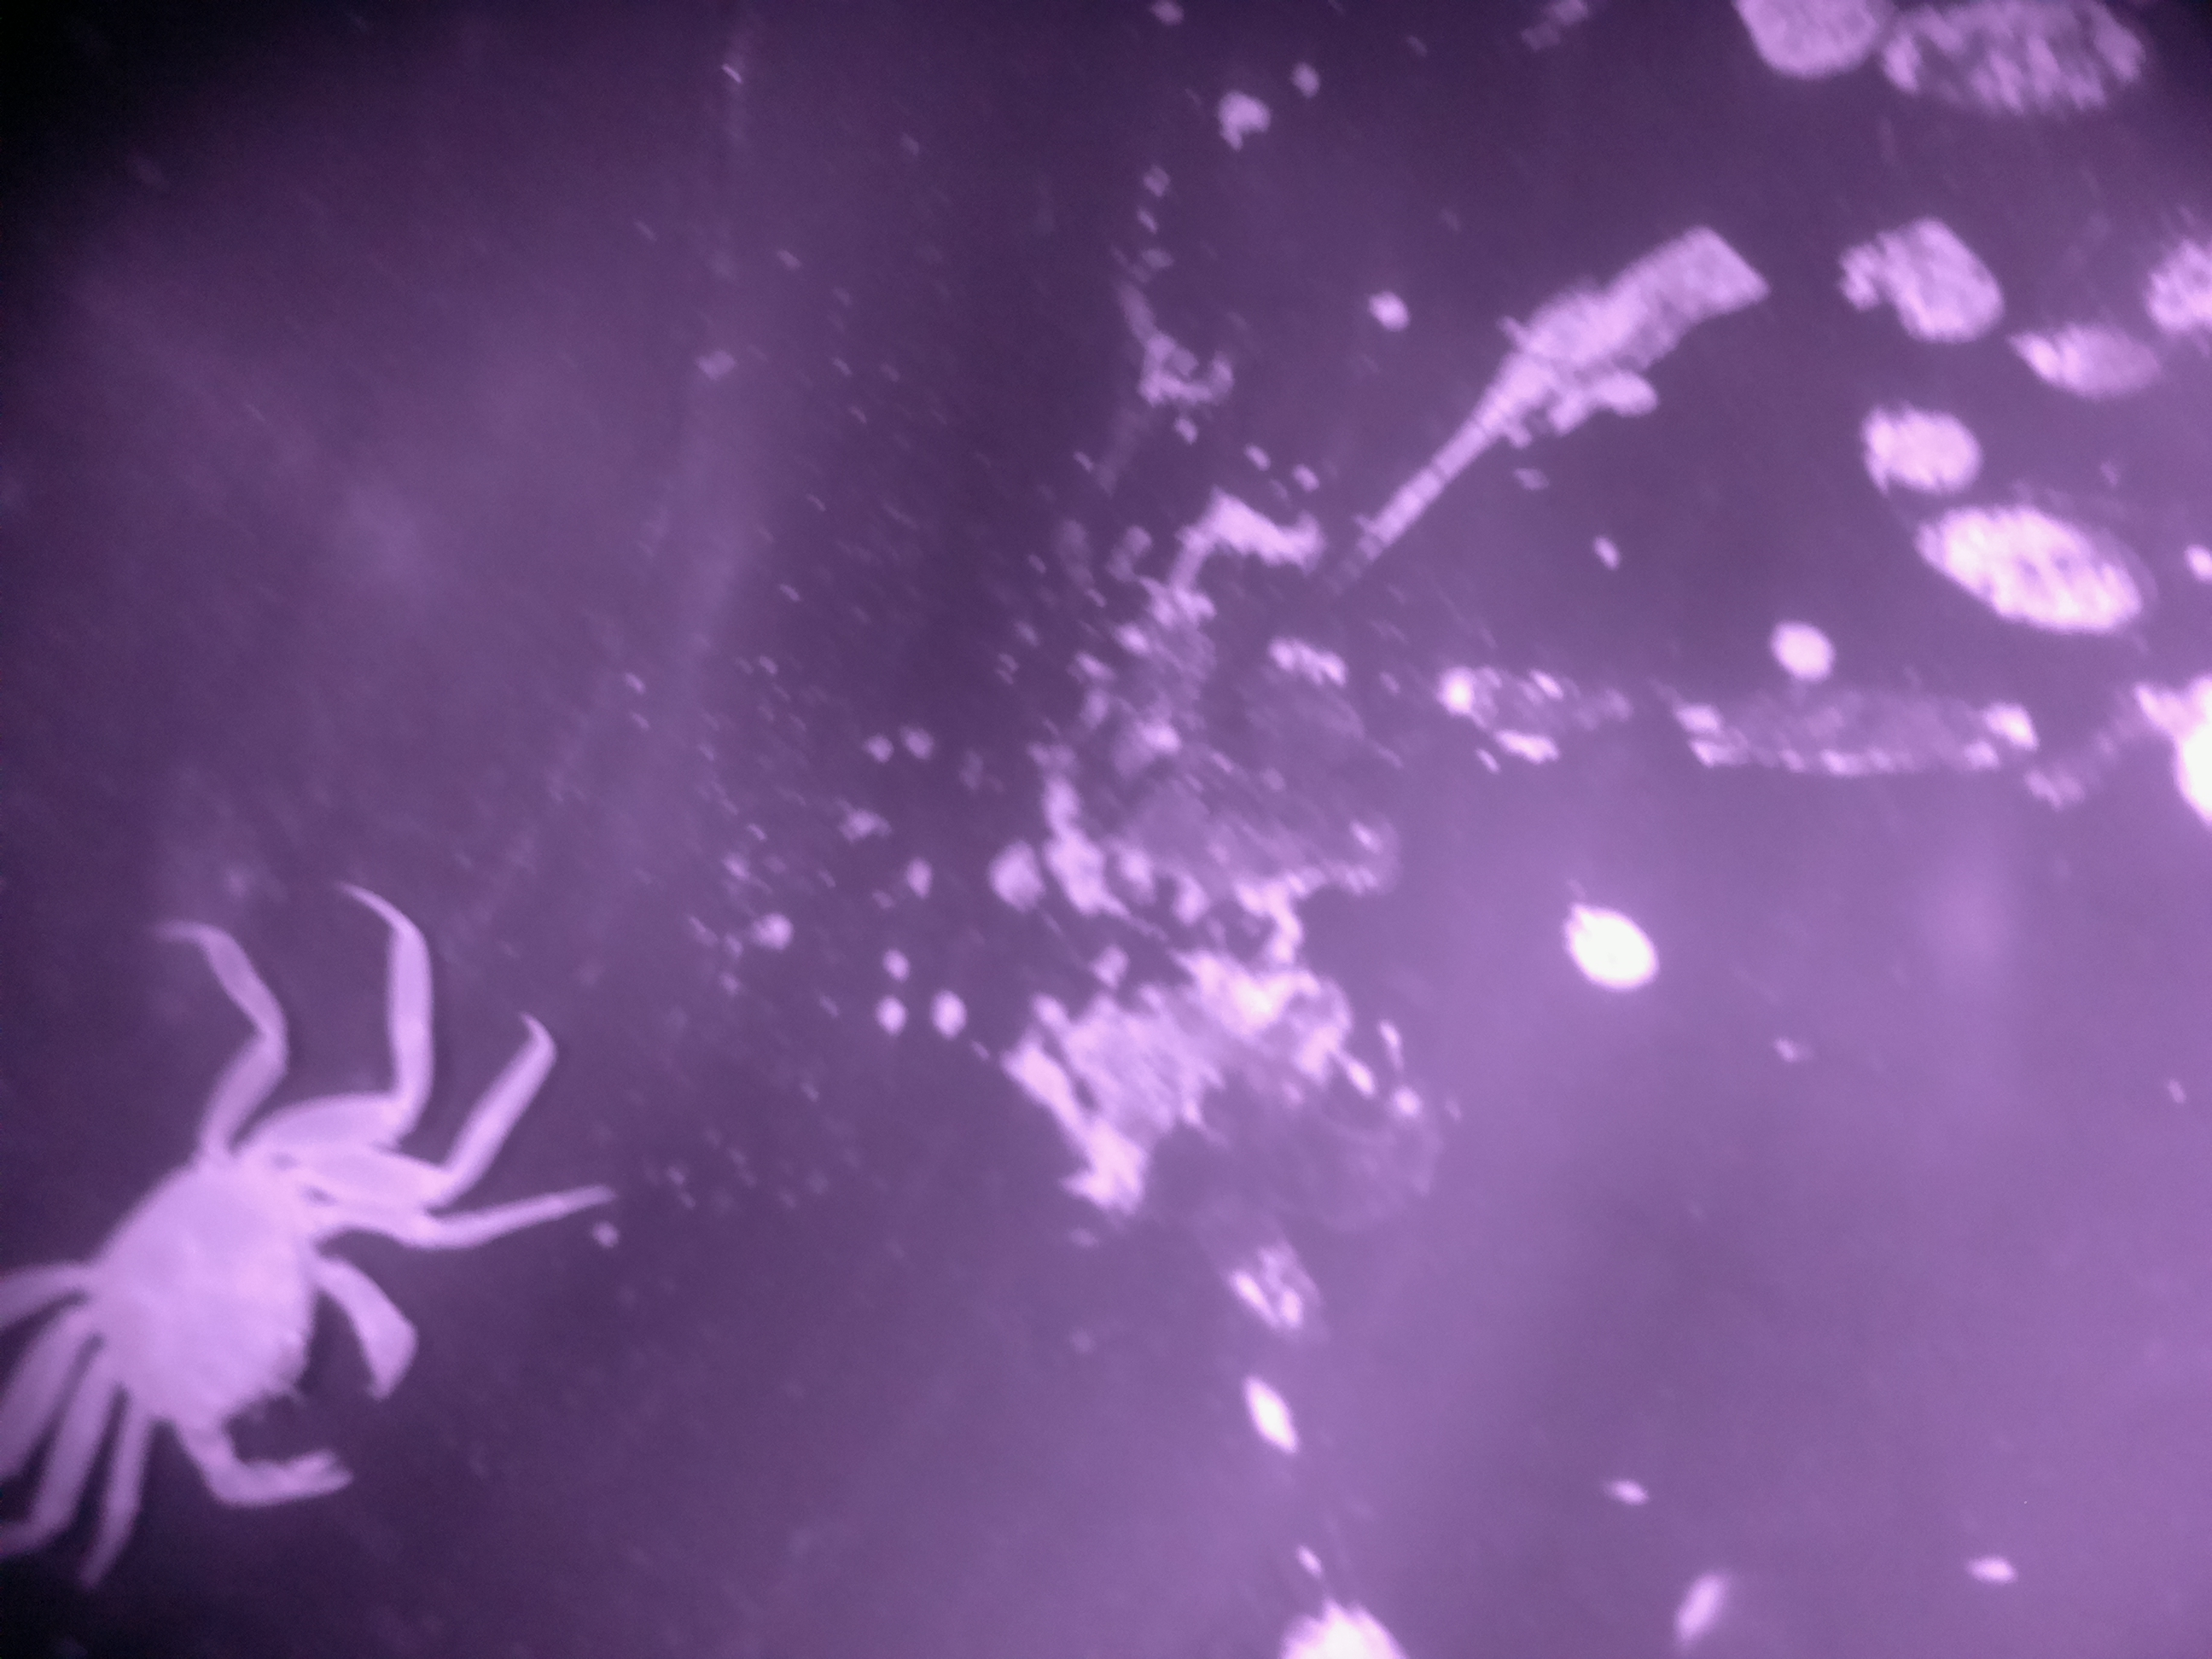Crab: (3, 1056, 505, 1584)
